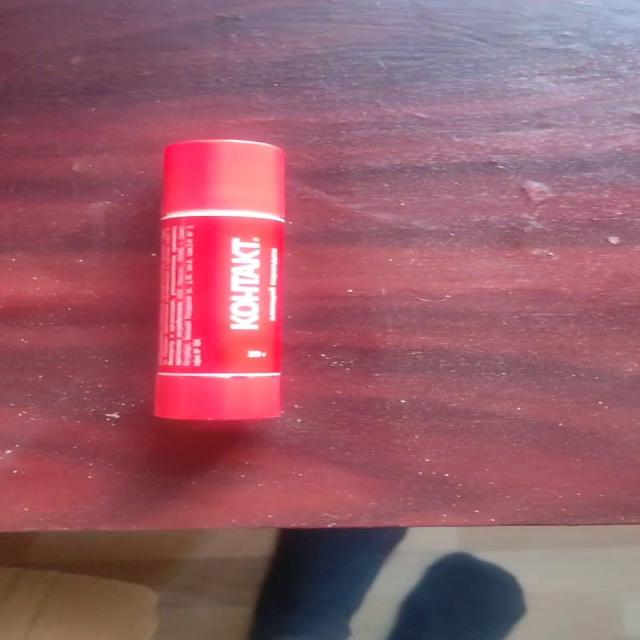glue: (152, 137, 286, 421)
